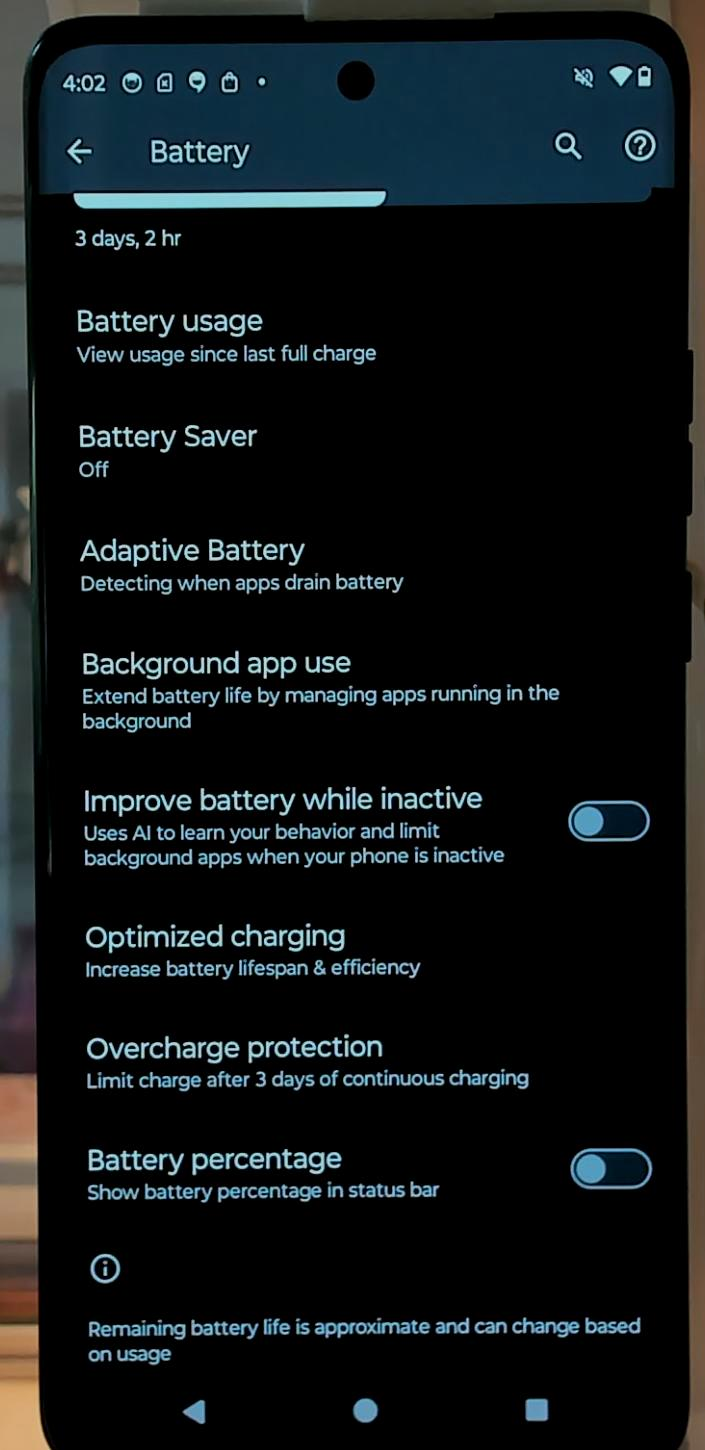Checkbox: (78, 780, 657, 884), (80, 1126, 660, 1222)
